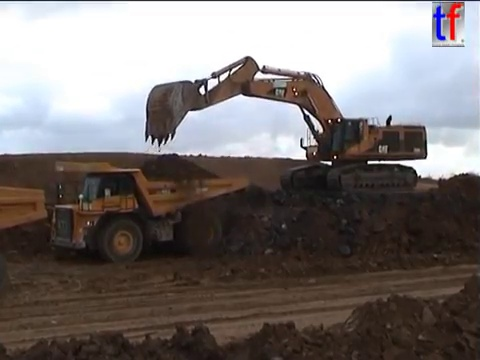excavator: (142, 53, 429, 197)
truck: (49, 158, 249, 265), (1, 183, 50, 300)
